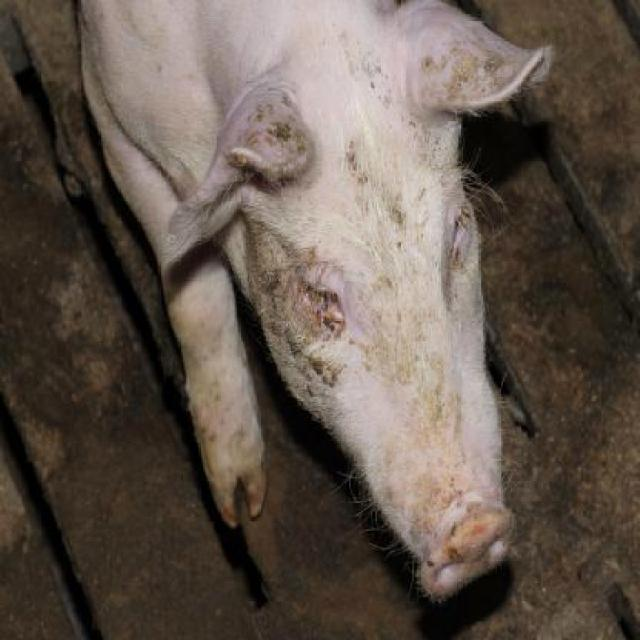Boar: (76, 0, 562, 606)
